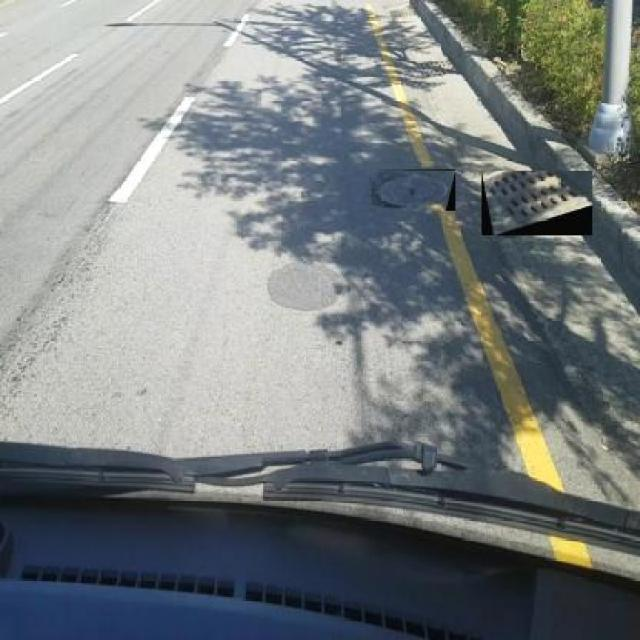Manhole: (482, 170, 592, 236), (372, 169, 456, 211)
